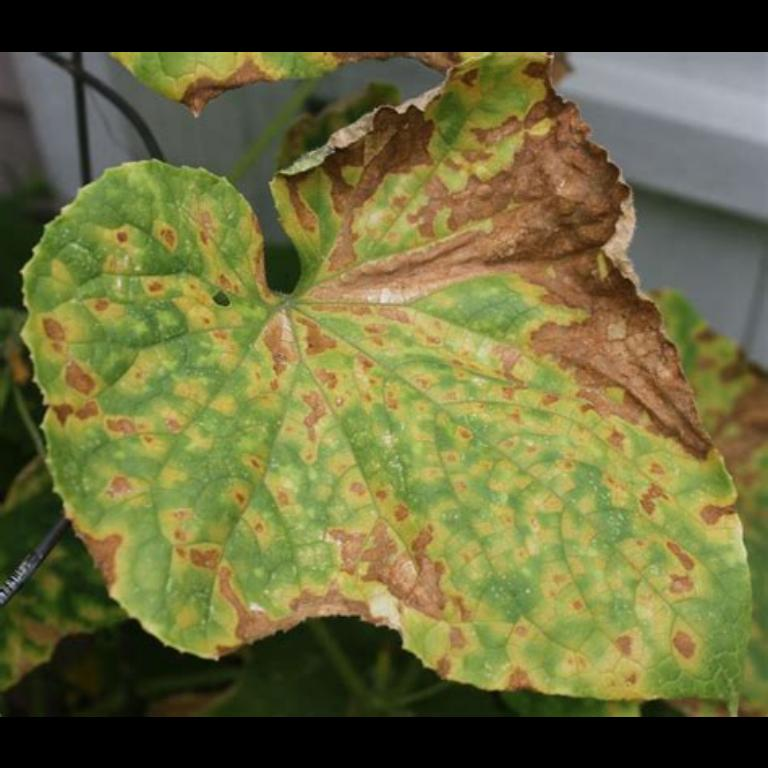blight: (300, 77, 650, 373)
